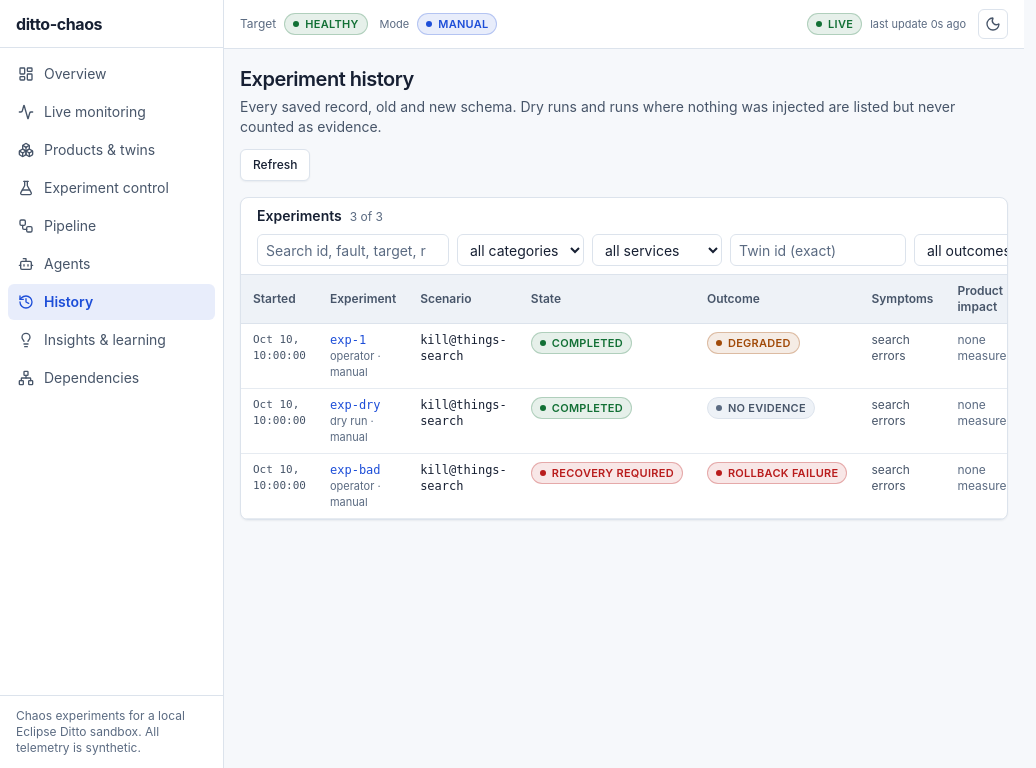
Test: History › lists experiments and labels dry runs and unverified rollbacks
This screenshot has width=1036, height=768.
Expected: the text "dry run · manual" is shown, [330,414,374,444]
Type "zzz" into the search field. click: (353, 250)
box: [257,234,449,266]
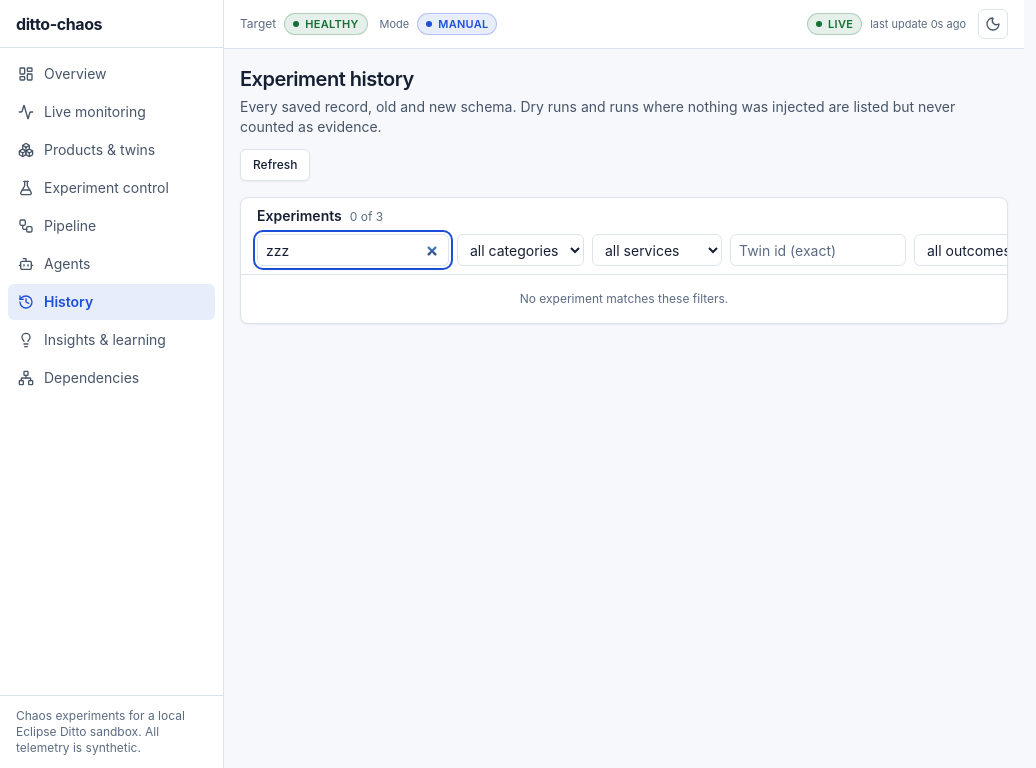
Now the text "No experiment matches these filters." is shown, box [520,291,728,306]
